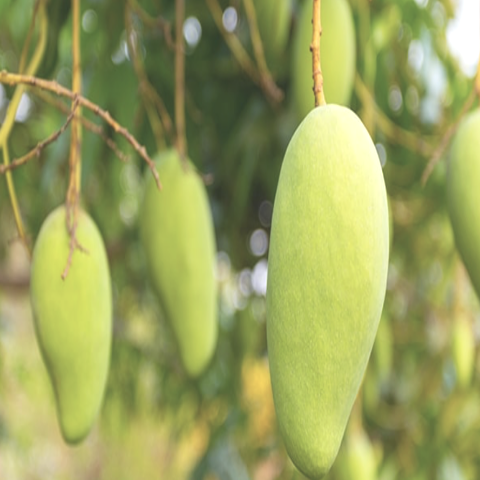mango: (246, 93, 411, 479), (128, 141, 228, 393), (20, 197, 115, 451)
